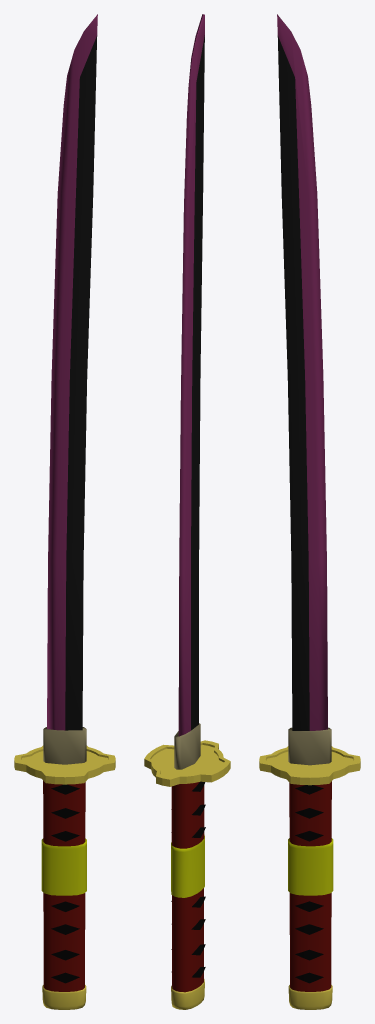
3 renders of one model, left to right at view 1: azimuth 90°, elevation 25°; view 2: azimuth 150°, elevation 25°; view 3: azimuth 270°, elevation 25°, orthographic.
Parts seen in each view (by area): view 1: Cube.183; view 2: Cube.183; view 3: Cube.183.
Part boxes in pixels (x1,y1,x2,y2): Cube.183: (14, 14, 115, 1009); Cube.183: (144, 14, 230, 1009); Cube.183: (259, 14, 360, 1009).
Bounding box in the file's own units: 30.12 × 385 × 35.85.
